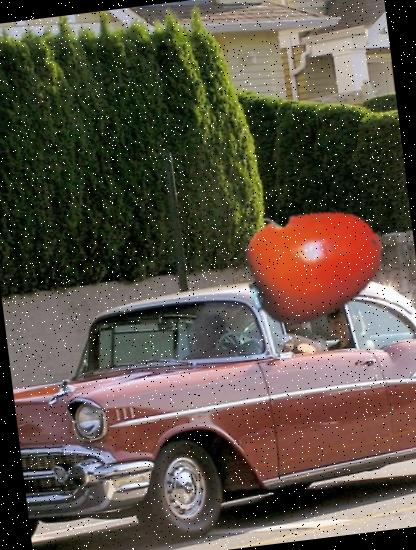Kaki: (236, 186, 392, 342)
